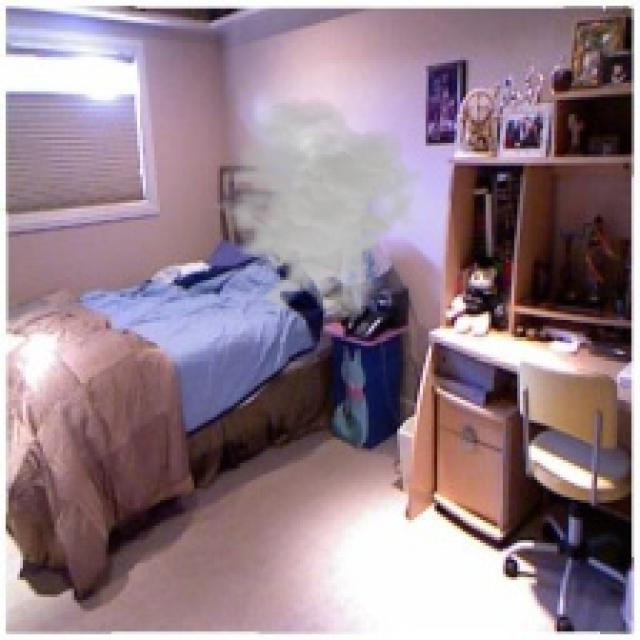Smoke: (203, 97, 423, 323)
